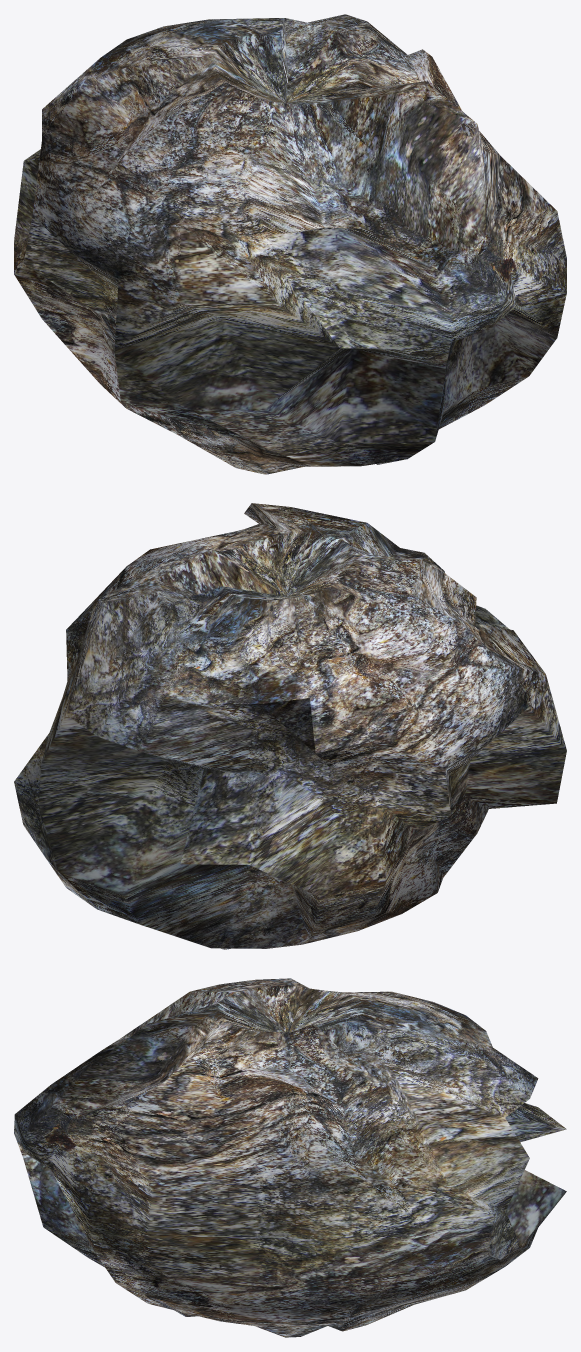
Rendered from Stein_3.fbx.
The picture shows the model from 3 angles, top to bottom: view 1: azimuth 30°, elevation 25°; view 2: azimuth 150°, elevation 25°; view 3: azimuth 270°, elevation 25°; orthographic projection. The views are drawn at different scales.
Parts seen in each view (by area): view 1: Kugel; view 2: Kugel; view 3: Kugel.
Boxes of the visible parts, box(x1,y1,x2,y2) form: Kugel: box(14, 14, 566, 474); Kugel: box(14, 503, 566, 949); Kugel: box(14, 978, 566, 1337).
Bounding box in the file's own units: 112 × 95.46 × 147.
1 material, 1 textured.
